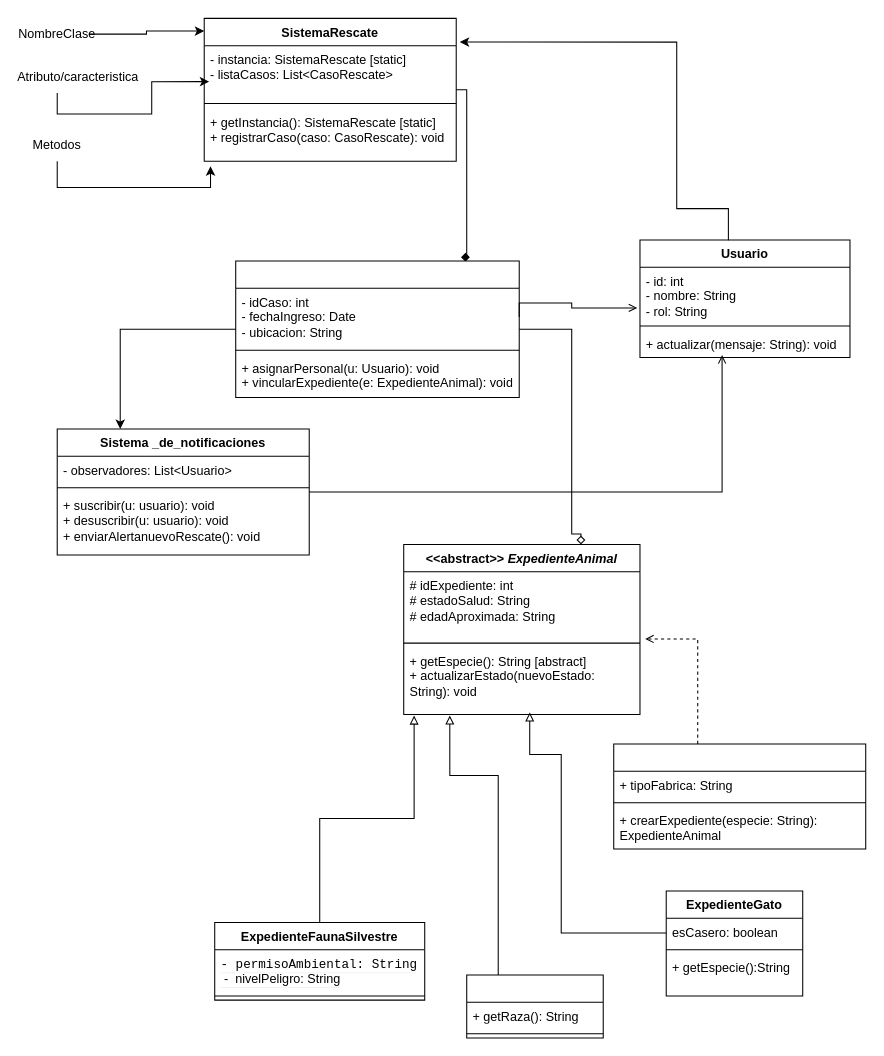
Some shapes in this 884 by 1056 pixel diagram are drawn without their labels. Each missing label, with the box of its shape:
CasoRescate: (235, 260, 519, 397)
CreadorExpediente: (613, 743, 866, 849)
ExpedientePerro: (466, 974, 603, 1038)
